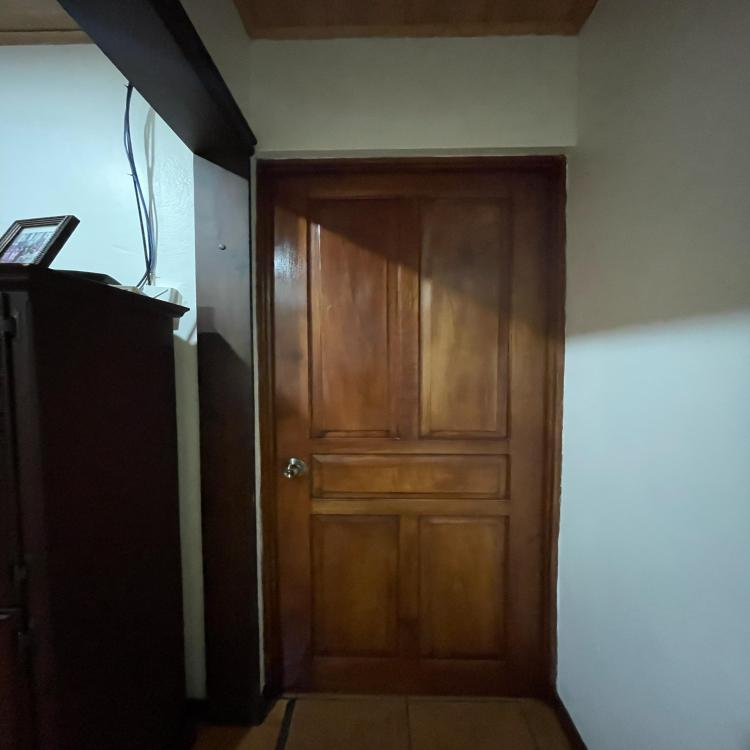ClosedDoor: (255, 152, 570, 709)
